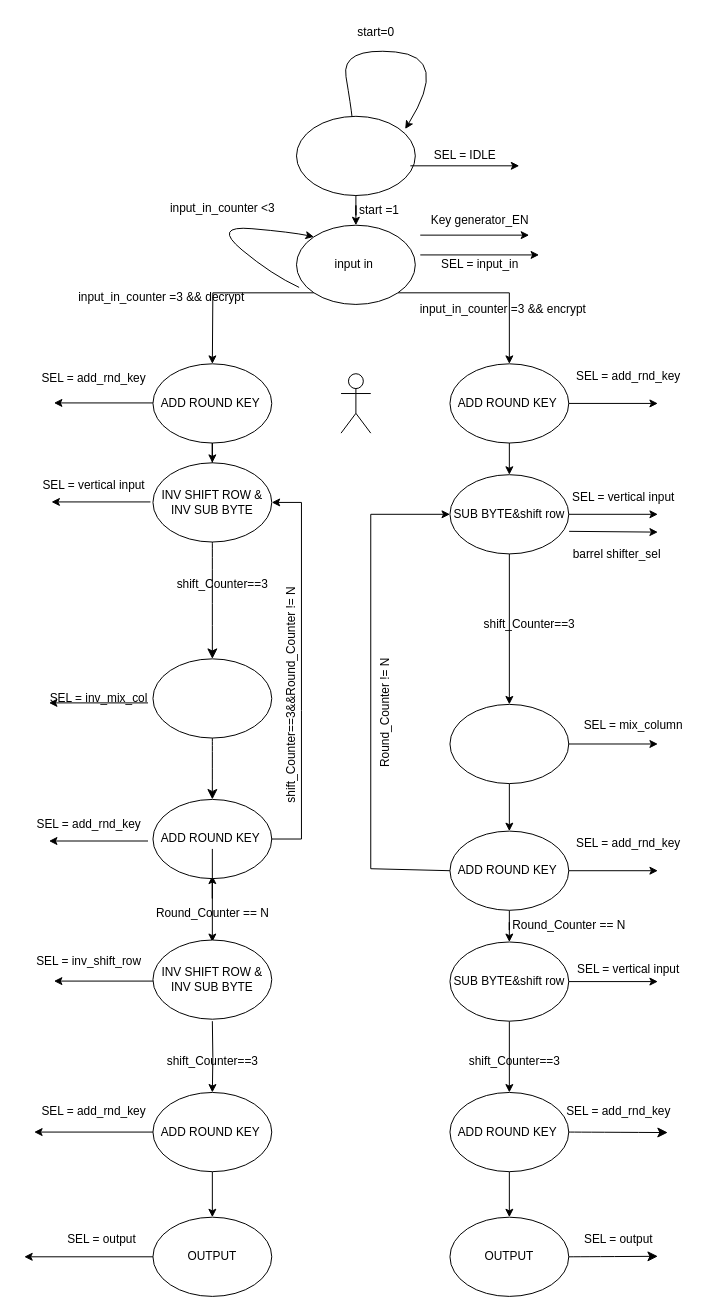
Image size: 710x1314. Some labels were removed from this diagram. The shapes that lost their labels are listed below. From the top down, each one's box as (x1, y1, x2, y2) in pixels, then its label:
(296, 115, 415, 196): idle
(340, 373, 371, 433): Actor
(152, 658, 272, 738): INV MIX COLUMN
(449, 703, 569, 784): MIX COLUMN
